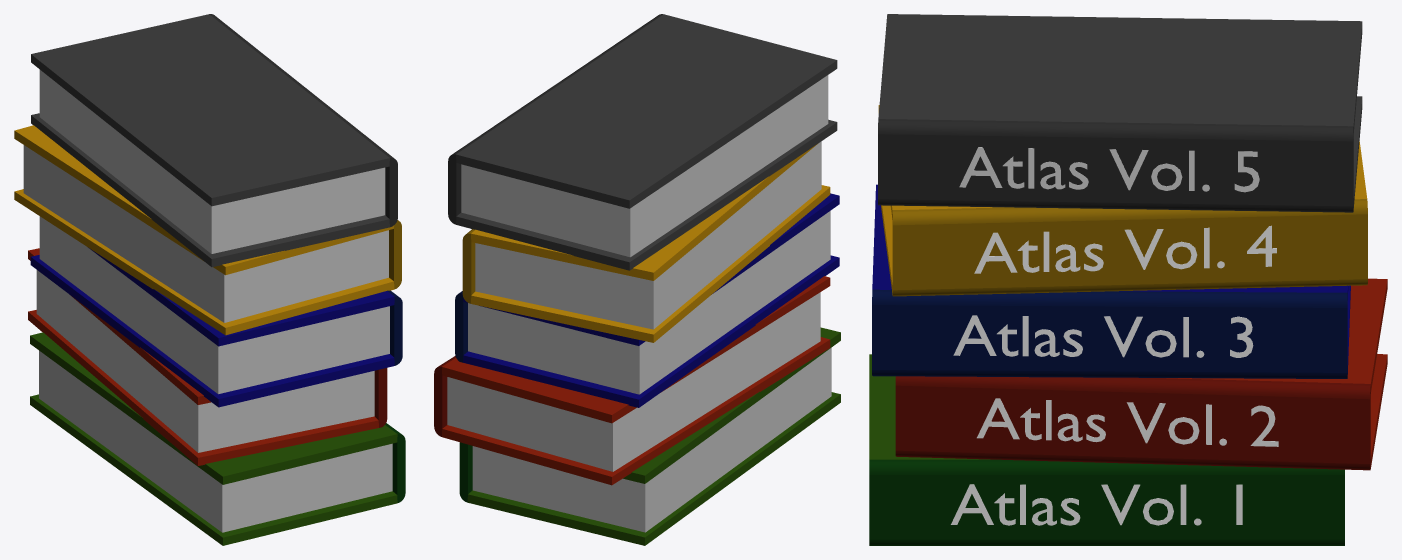
File: book.glb
The picture shows the model from 3 angles, left to right: view 1: azimuth 30°, elevation 25°; view 2: azimuth 150°, elevation 25°; view 3: azimuth 270°, elevation 25°; orthographic projection. The views are drawn at different scales.
Parts seen in each view (by area): view 1: Cube.003; view 2: Cube.003; view 3: Cube.003, Atlas Vol. 1.004, Atlas Vol. 1.003, Atlas Vol. 1.002, Atlas Vol. 1.001, Atlas Vol. 1.
Part boxes in pixels (left/top/right/bottom): Cube.003: left=14, top=14, right=405, bottom=545; Cube.003: left=434, top=14, right=840, bottom=545; Cube.003: left=869, top=14, right=1387, bottom=545; Atlas Vol. 1.004: left=959, top=147, right=1259, bottom=192; Atlas Vol. 1.003: left=974, top=225, right=1276, bottom=273; Atlas Vol. 1.002: left=953, top=315, right=1253, bottom=357; Atlas Vol. 1.001: left=977, top=398, right=1278, bottom=446; Atlas Vol. 1: left=951, top=484, right=1242, bottom=525.
Bounding box in the file's own units: 0.3513 × 0.5503 × 0.6101.
